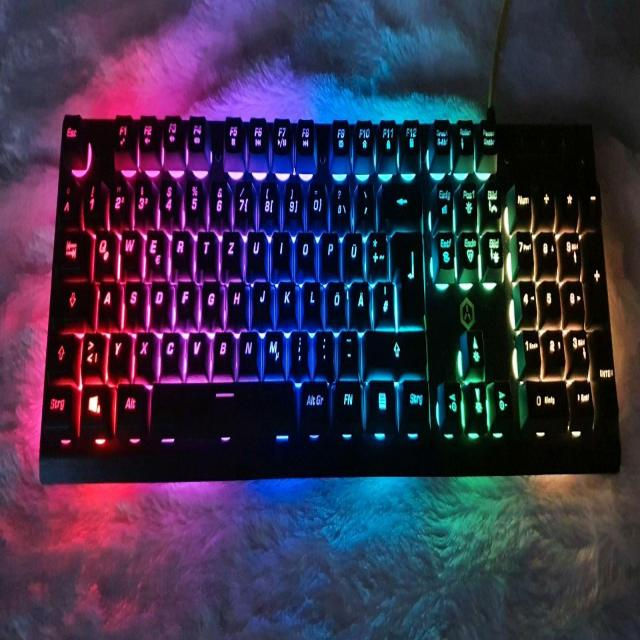0: (306, 176, 327, 225)
1: (82, 177, 105, 223)
2: (108, 176, 131, 225)
3: (132, 174, 153, 223)
4: (158, 174, 179, 217)
5: (184, 178, 203, 220)
6: (207, 175, 229, 221)
7: (232, 175, 253, 223)
8: (257, 172, 278, 224)
9: (283, 175, 302, 222)
a: (96, 278, 120, 324)
accent: (355, 179, 374, 225)
ae: (349, 277, 370, 324)
alt-left: (115, 378, 145, 434)
altgr-right: (298, 377, 328, 431)
b: (211, 325, 234, 372)
c: (159, 326, 180, 372)
caret: (57, 178, 80, 224)
comma: (289, 326, 308, 371)
d: (149, 277, 170, 321)
del: (378, 179, 420, 225)
e: (143, 224, 165, 272)
enter: (391, 227, 424, 324)
f: (175, 277, 193, 316)
g: (201, 277, 219, 320)
h: (226, 278, 246, 322)
hash: (372, 277, 394, 325)
i: (271, 227, 289, 266)
j: (251, 277, 269, 320)
k: (276, 277, 295, 318)
keyboard: (35, 103, 631, 484)
l: (301, 277, 320, 318)
less: (78, 326, 104, 377)
m: (262, 325, 283, 373)
minus: (338, 325, 357, 373)
n: (237, 326, 258, 374)
o: (295, 227, 314, 270)
oe: (325, 277, 345, 323)
p: (320, 228, 338, 272)
plus: (367, 227, 386, 276)
point: (314, 325, 333, 373)
q: (92, 227, 117, 276)
r: (169, 225, 191, 269)
s: (122, 276, 145, 324)
shift-left: (46, 330, 77, 375)
shift-lock: (48, 279, 95, 325)
shift-right: (362, 327, 427, 372)
space: (146, 374, 298, 435)
ss: (329, 180, 349, 226)
strg-left: (40, 381, 73, 430)
strg-right: (400, 376, 429, 430)
t: (195, 226, 216, 270)
tab: (54, 227, 91, 274)
u: (245, 226, 265, 271)
ue: (342, 227, 362, 275)
v: (185, 325, 206, 372)
w: (118, 225, 140, 272)
x: (133, 326, 156, 376)
y: (105, 327, 129, 375)
z: (220, 226, 240, 270)
